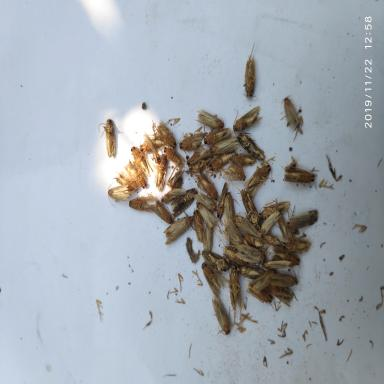pbw: (95, 116, 123, 160), (237, 185, 262, 231), (280, 93, 305, 139), (162, 211, 194, 246), (232, 104, 263, 139), (200, 258, 230, 294), (244, 158, 274, 192), (235, 130, 266, 162), (210, 294, 233, 337), (282, 162, 318, 188), (168, 185, 197, 217), (128, 142, 153, 178), (122, 155, 147, 190), (194, 105, 226, 131), (244, 38, 257, 101), (192, 172, 220, 201), (287, 208, 320, 232), (195, 200, 222, 228), (261, 196, 290, 222), (156, 116, 178, 150), (232, 244, 266, 266), (259, 206, 283, 237), (246, 280, 274, 306), (106, 178, 130, 208), (215, 180, 233, 220), (154, 192, 174, 225), (142, 130, 161, 164), (178, 130, 206, 153), (201, 251, 230, 272), (114, 168, 139, 192), (183, 146, 212, 166), (203, 126, 232, 146), (190, 207, 206, 243), (207, 151, 235, 171), (129, 194, 157, 214), (267, 273, 300, 289), (221, 165, 248, 184), (223, 190, 237, 225), (202, 220, 217, 252), (209, 138, 240, 152), (156, 152, 167, 190), (160, 186, 186, 202), (229, 262, 238, 308)
